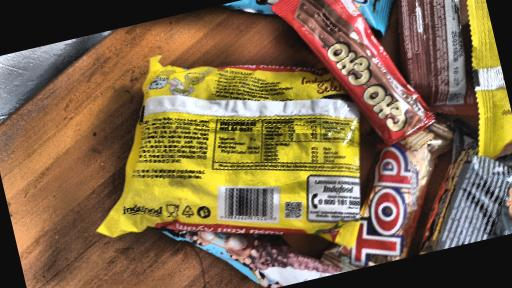chocho: (277, 0, 441, 153), (329, 121, 478, 269), (377, 0, 484, 135)
indomie: (126, 1, 368, 264)
